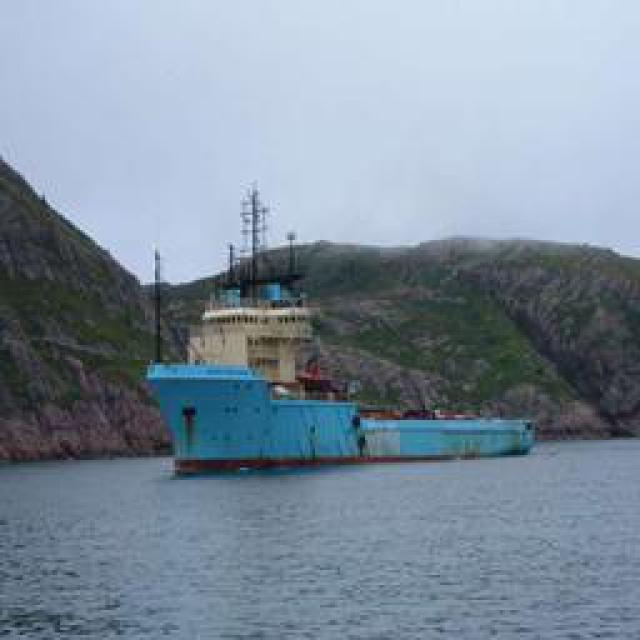Ship: (145, 361, 533, 469)
